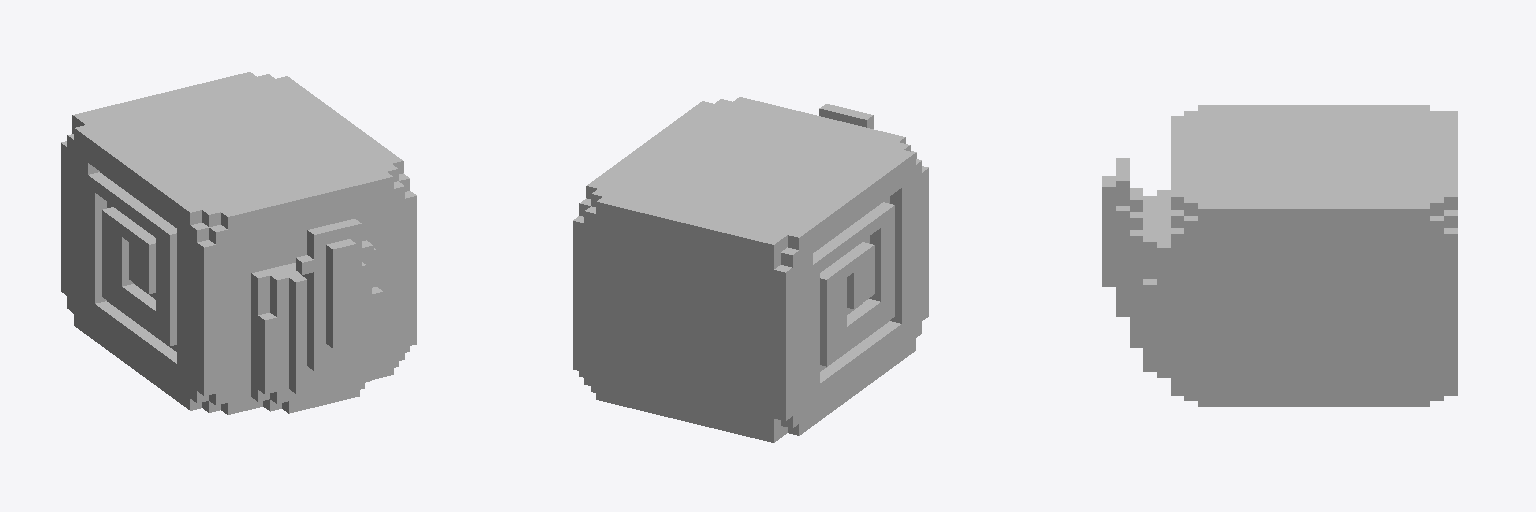
Rendered from player.obj.
3 renders of one model, left to right at view 1: azimuth 30°, elevation 25°; view 2: azimuth 150°, elevation 25°; view 3: azimuth 270°, elevation 25°, orthographic.
Visible parts, largest first — view 1: object 1; view 2: object 1; view 3: object 1.
Part boxes in pixels (x1,y1,x2,y2): object 1: (61,72,416,414); object 1: (573,97,928,442); object 1: (1102,105,1457,406).
Size of the model in its own units: 1.8 by 1.6 by 2.6.